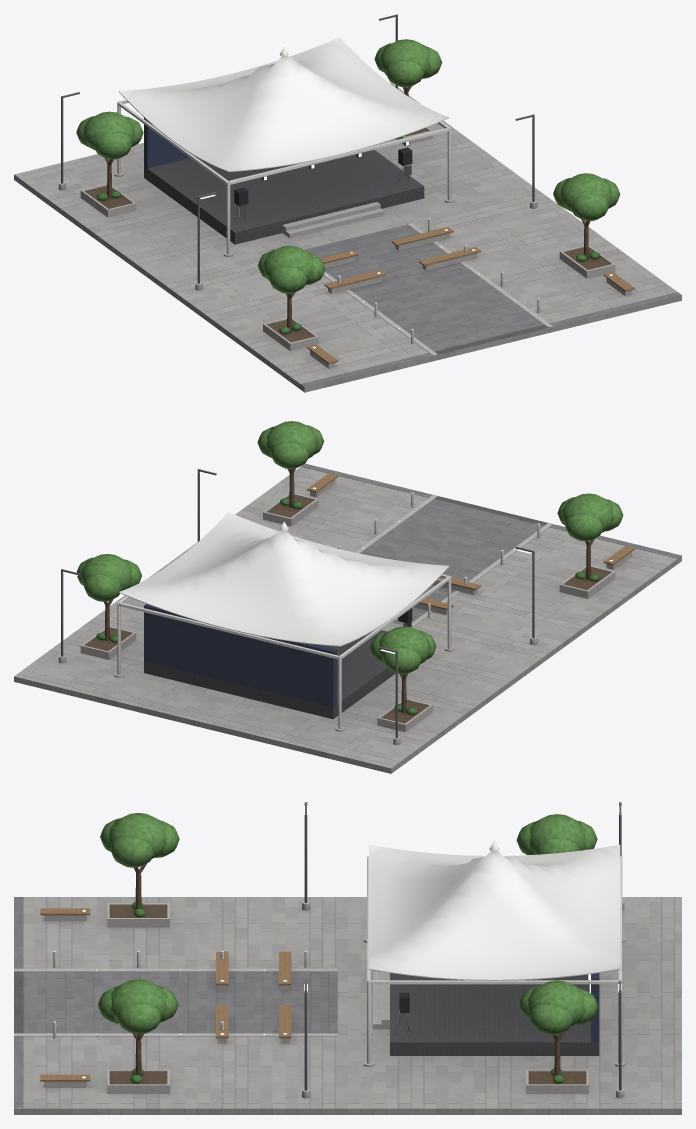
Rendered from IlsanPlazaStage.fbx.
The picture shows the model from 3 angles, top to bottom: view 1: azimuth 30°, elevation 25°; view 2: azimuth 150°, elevation 25°; view 3: azimuth 270°, elevation 25°; orthographic projection. The views are drawn at different scales.
Visible parts, largest first — view 1: IlsanPlazaStage; view 2: IlsanPlazaStage; view 3: IlsanPlazaStage.
Part boxes in pixels (x1,y1,x2,y2): IlsanPlazaStage: (14, 14, 681, 392); IlsanPlazaStage: (14, 421, 681, 773); IlsanPlazaStage: (14, 802, 681, 1114).
Size of the model in its own units: 23.9 by 8.9 by 31.9.
Materials: 1 (1 with a texture image).
